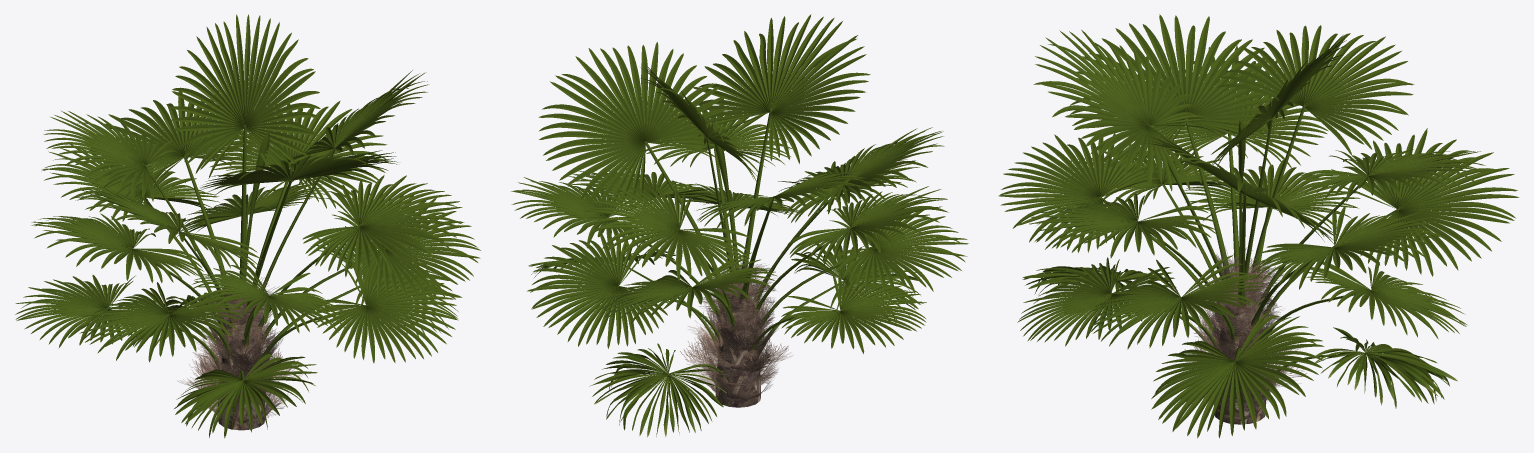
File: palm-hd.glb
The picture shows the model from 3 angles, left to right: view 1: azimuth 30°, elevation 25°; view 2: azimuth 150°, elevation 25°; view 3: azimuth 270°, elevation 25°; orthographic projection. The views are drawn at different scales.
Parts seen in each view (by area): view 1: palm-hd-5, palm-hd-3, palm-hd-6, palm-hd-0, palm-hd-2, palm-hd-4, palm-hd-1; view 2: palm-hd-3, palm-hd-6, palm-hd-5, palm-hd-0, palm-hd-4, palm-hd-2, palm-hd-1; view 3: palm-hd-3, palm-hd-5, palm-hd-6, palm-hd-0, palm-hd-2, palm-hd-4, palm-hd-1.
Part boxes in pixels (left/top/right/bottom): palm-hd-5: left=15, top=15, right=474, bottom=433; palm-hd-3: left=15, top=14, right=480, bottom=437; palm-hd-6: left=15, top=27, right=473, bottom=438; palm-hd-0: left=132, top=125, right=384, bottom=380; palm-hd-2: left=189, top=272, right=302, bottom=415; palm-hd-4: left=177, top=274, right=285, bottom=422; palm-hd-1: left=217, top=300, right=265, bottom=430; palm-hd-3: left=514, top=22, right=968, bottom=437; palm-hd-6: left=511, top=17, right=967, bottom=436; palm-hd-5: left=511, top=14, right=959, bottom=432; palm-hd-0: left=607, top=110, right=875, bottom=382; palm-hd-4: left=680, top=255, right=778, bottom=400; palm-hd-2: left=688, top=262, right=792, bottom=392; palm-hd-1: left=715, top=283, right=760, bottom=407; palm-hd-3: left=998, top=24, right=1517, bottom=431; palm-hd-5: left=999, top=16, right=1514, bottom=438; palm-hd-6: left=1008, top=14, right=1519, bottom=438; palm-hd-0: left=1099, top=105, right=1399, bottom=388; palm-hd-2: left=1184, top=247, right=1300, bottom=421; palm-hd-4: left=1197, top=255, right=1306, bottom=411; palm-hd-1: left=1214, top=292, right=1265, bottom=424.
Bounding box in the file's own units: 1.2 × 1 × 1.2.
7 materials, 7 textured.
